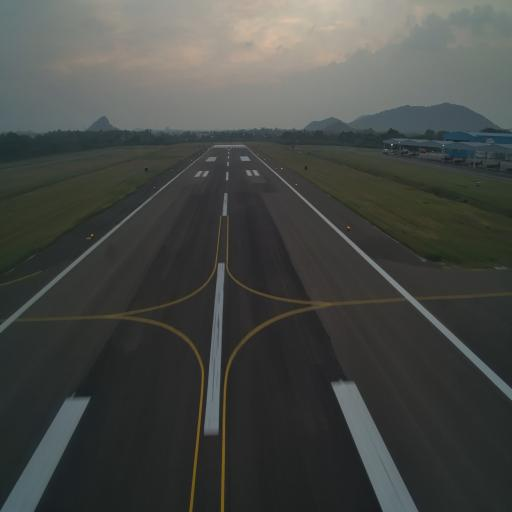on: (346, 222, 352, 233), (90, 232, 95, 239)
